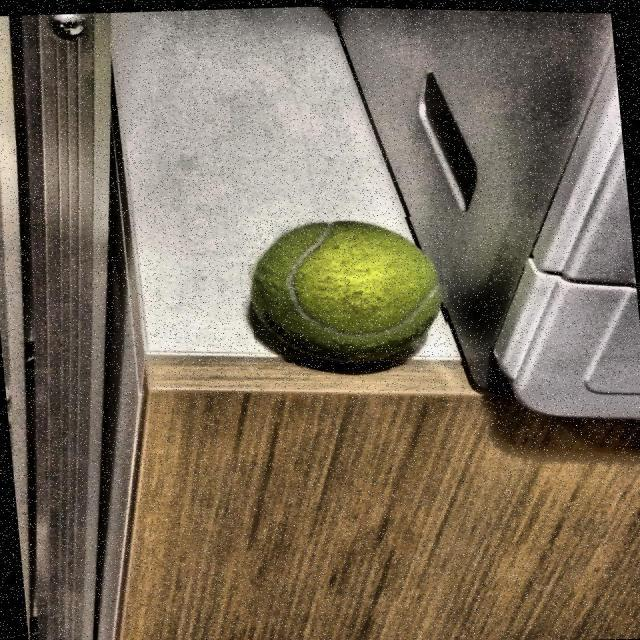tennis-ball: (244, 210, 452, 370)
